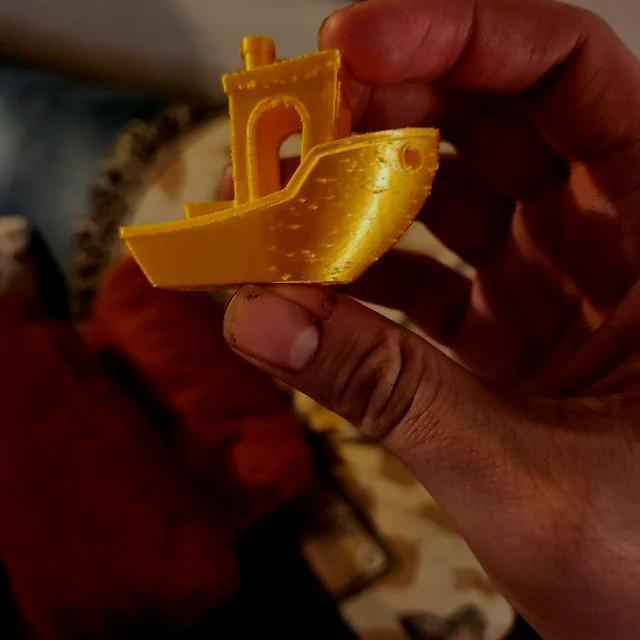zits: (284, 203, 298, 215), (340, 152, 352, 166), (423, 184, 435, 198), (284, 222, 300, 232), (265, 242, 278, 254), (308, 202, 320, 214), (300, 245, 312, 257), (320, 175, 333, 185), (283, 250, 295, 259), (298, 195, 308, 205), (280, 272, 292, 280), (268, 262, 277, 272)
